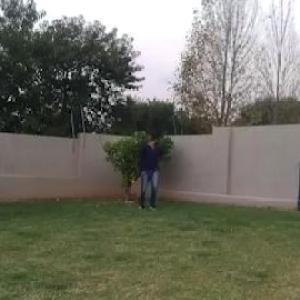follow: (139, 128, 160, 213)
